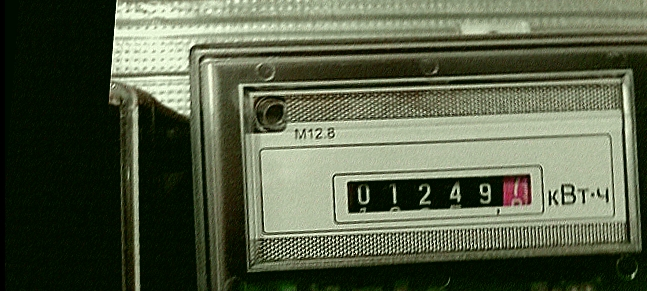0: (352, 179, 372, 207)
1: (384, 181, 400, 207)
2: (414, 181, 436, 208)
4: (446, 177, 466, 206)
7: (507, 174, 523, 199)
9: (475, 180, 495, 206)
screen: (322, 152, 560, 245)
